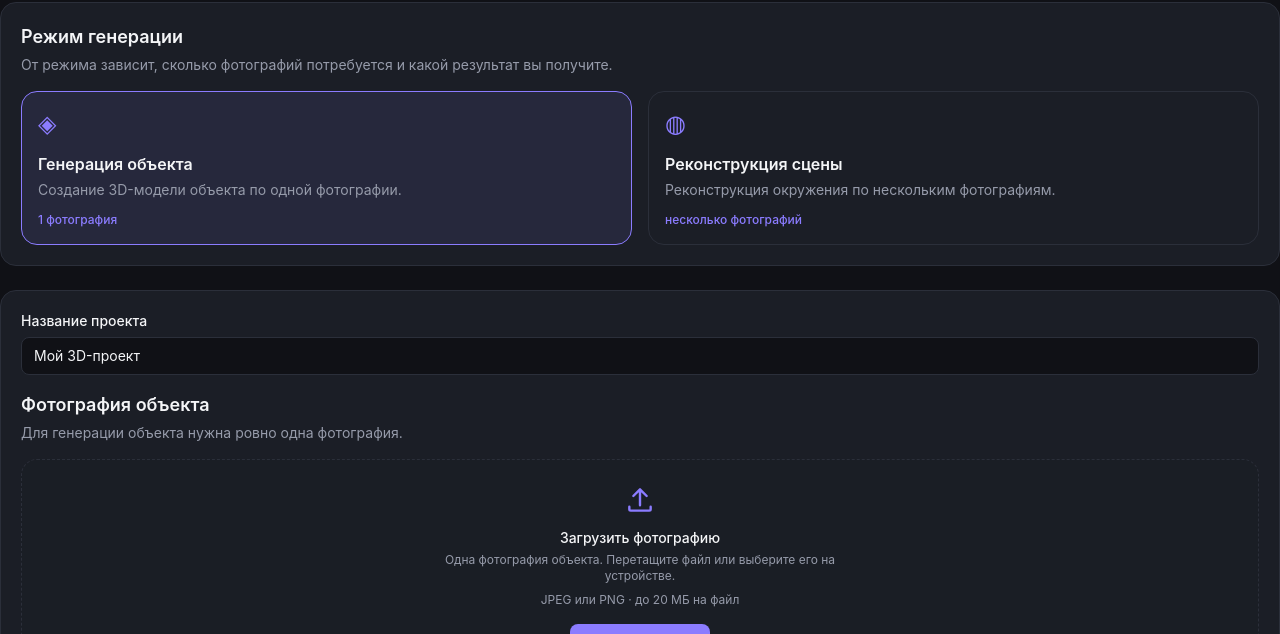
Test case: CreateProjectPage › switches the upload interface with the generation mode
The width and height of the screenshot is (1280, 634).
Check: the text "Загрузить фотографию" is shown, box [560,529,720,546]
Click the radio button labelled "Реконструкция сцены".
click(754, 164)  # box [648,91,1259,245]
(page scrolled)
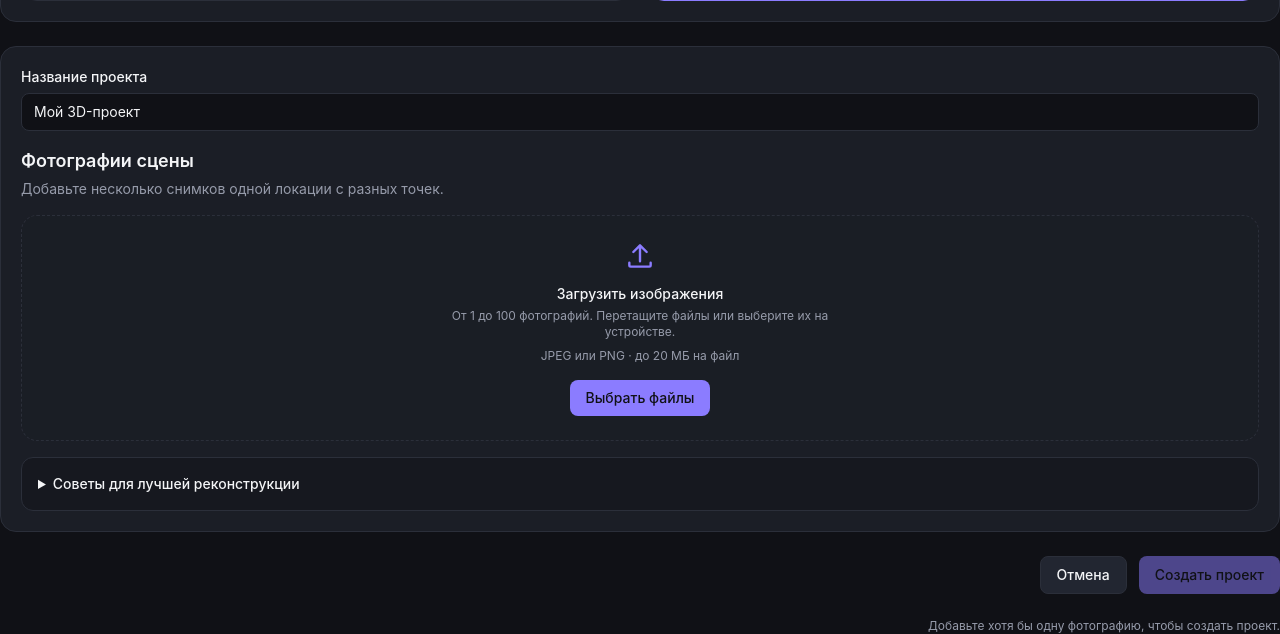
Check: the text "Загрузить изображения" is shown, box [557,285,723,302]
Check: the heading "Советы для лучшей реконструкции" is shown, box [53,475,300,492]
